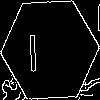I: (25, 25, 40, 72)
